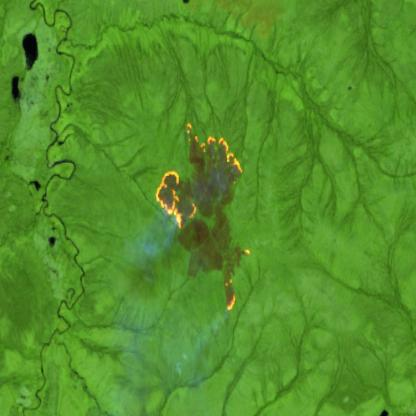fire: (153, 118, 251, 313)
